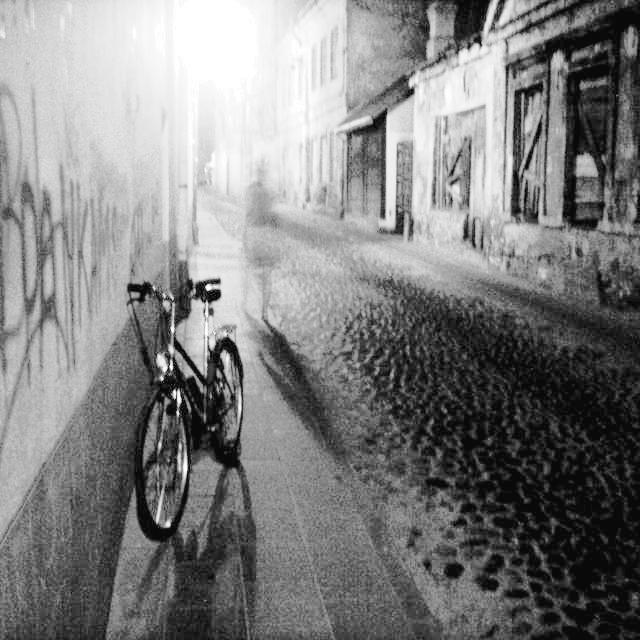Bicycle: (116, 281, 244, 538)
